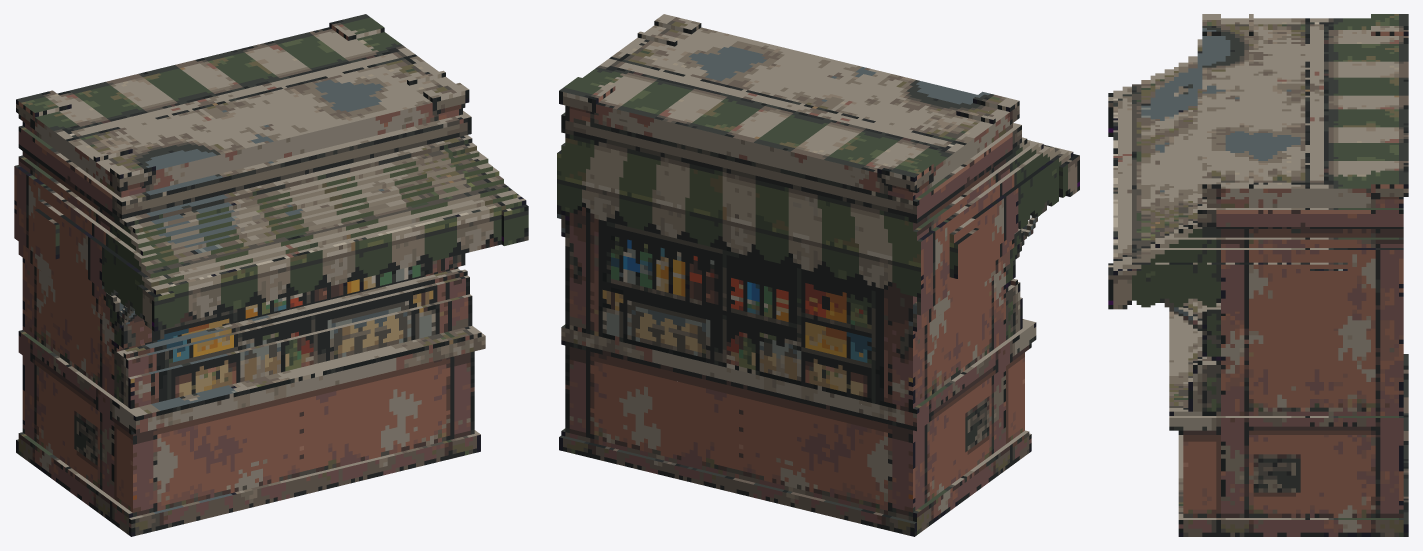
File: city_kiosk_drinks.glb
3 views of the same model, side by side, from view 1: azimuth 30°, elevation 25°; view 2: azimuth 150°, elevation 25°; view 3: azimuth 270°, elevation 25° (orthographic).
Parts seen in each view (by area): view 1: city_kiosk_drinks; view 2: city_kiosk_drinks; view 3: city_kiosk_drinks.
Part boxes in pixels (<box>): city_kiosk_drinks: <box>14,14,528,536</box>; city_kiosk_drinks: <box>557,14,1079,536</box>; city_kiosk_drinks: <box>1108,14,1408,536</box>.
Bounding box in the file's own units: 2.88 × 2.59 × 2.
